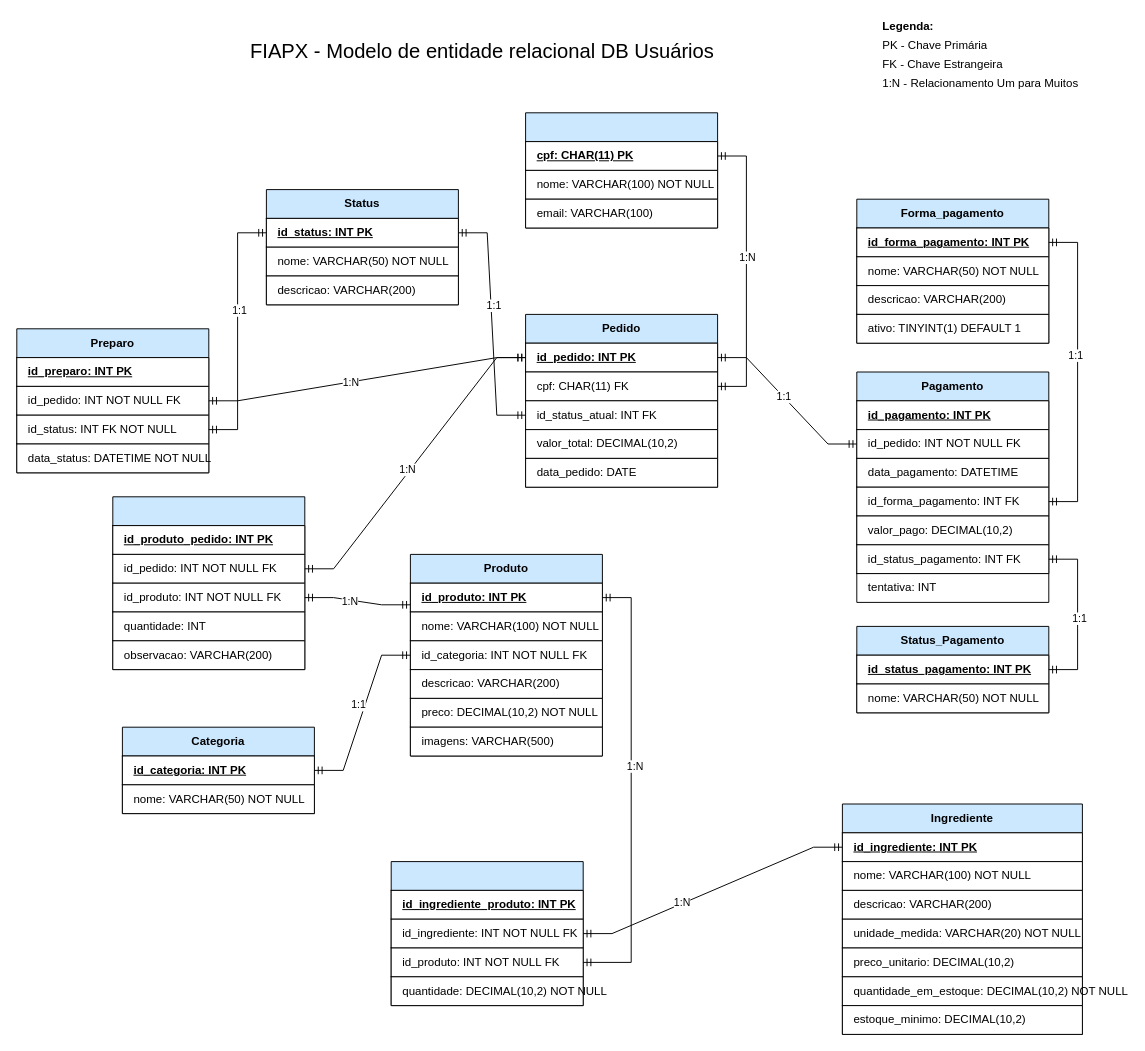
Image size: 1145x1051. Some labels were removed from this diagram. Here are the shapes that lost their labels. From the top down, the box of each, then its label:
(525, 112, 718, 228): Cliente
(112, 496, 305, 670): Pedido_Produto
(390, 861, 583, 1006): Produto_Ingrediente
